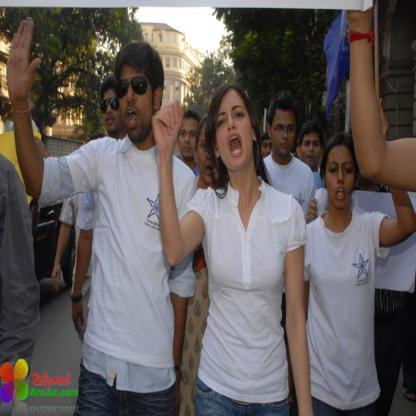face: (215, 96, 253, 171), (118, 68, 155, 140), (326, 150, 356, 209), (199, 131, 226, 185), (272, 114, 296, 155), (102, 93, 121, 132), (180, 122, 200, 157), (303, 133, 322, 168), (263, 143, 275, 166)
